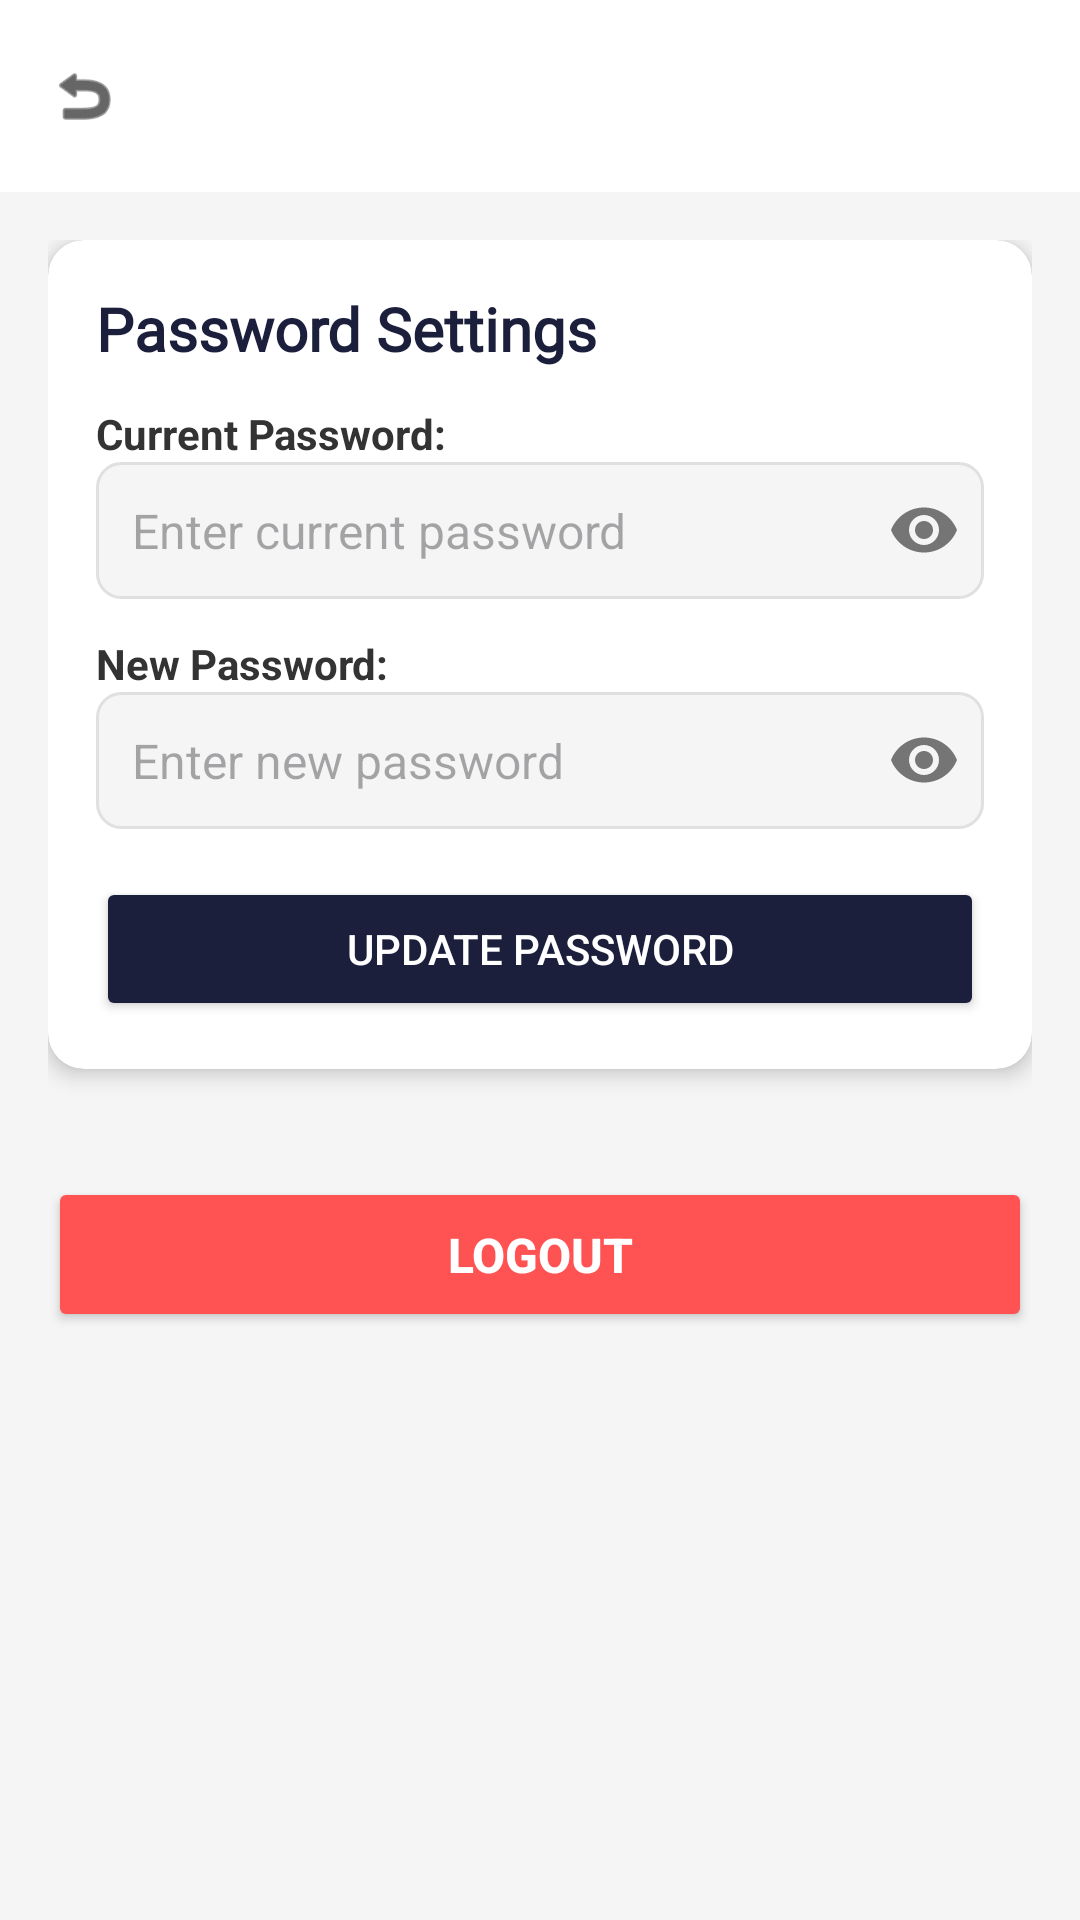

Icon click points for this 1080px×1920px phone screenshot, format (x,y):
BACK: (85,96)
